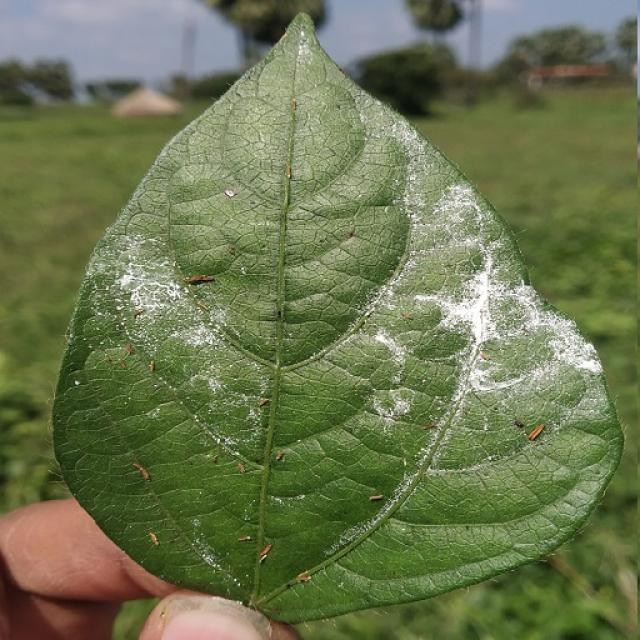Blackgram: (54, 15, 622, 636)
Powdery_Mildew: (358, 170, 513, 393), (432, 219, 603, 406), (294, 198, 424, 383), (110, 231, 223, 356), (377, 111, 466, 234), (408, 178, 499, 283), (192, 409, 258, 464), (184, 527, 234, 577), (295, 31, 315, 63), (74, 380, 80, 385)
